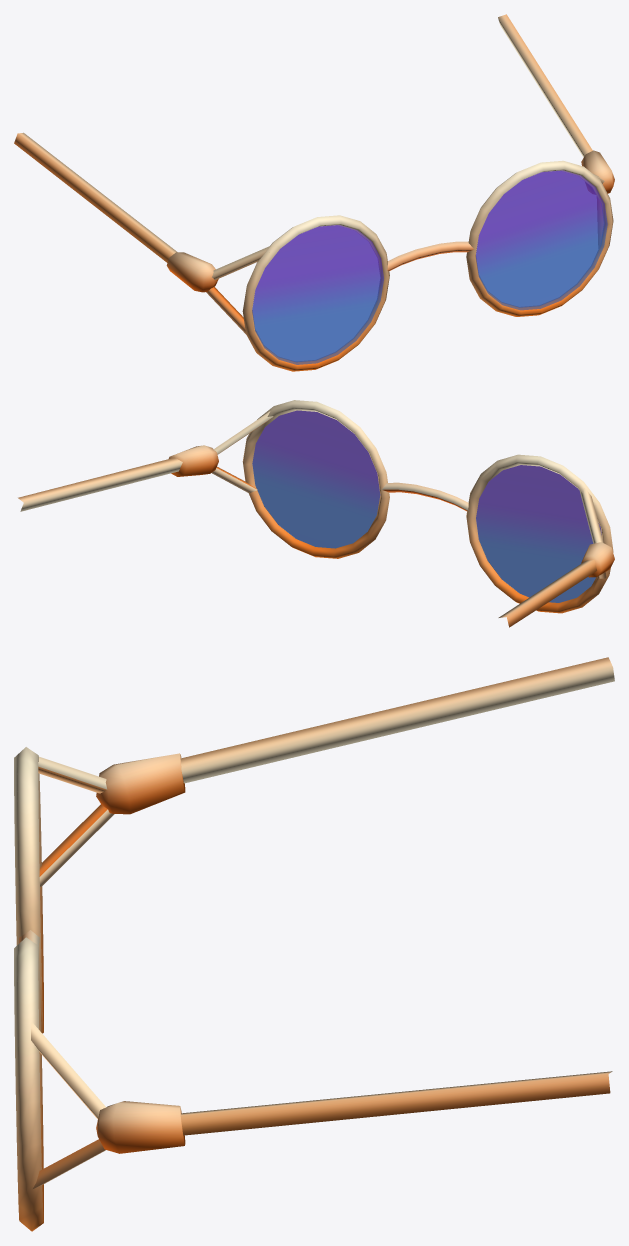
The model's file is Glasses_Fizz_Visor_Pro.gltf.
3 renders of one model, top to bottom at view 1: azimuth 30°, elevation 25°; view 2: azimuth 150°, elevation 25°; view 3: azimuth 270°, elevation 25°, orthographic. The views are drawn at different scales.
Visible parts, largest first — view 1: Glasses_Fizz_Visor_Pro; view 2: Glasses_Fizz_Visor_Pro; view 3: Glasses_Fizz_Visor_Pro.
Boxes of the visible parts, x1,y1,x2,y2 form: Glasses_Fizz_Visor_Pro: [14, 14, 614, 371]; Glasses_Fizz_Visor_Pro: [18, 400, 614, 627]; Glasses_Fizz_Visor_Pro: [14, 657, 614, 1231].
Bounding box in the file's own units: 0.9864 × 0.2932 × 0.5939.
2 materials, 2 textured.
